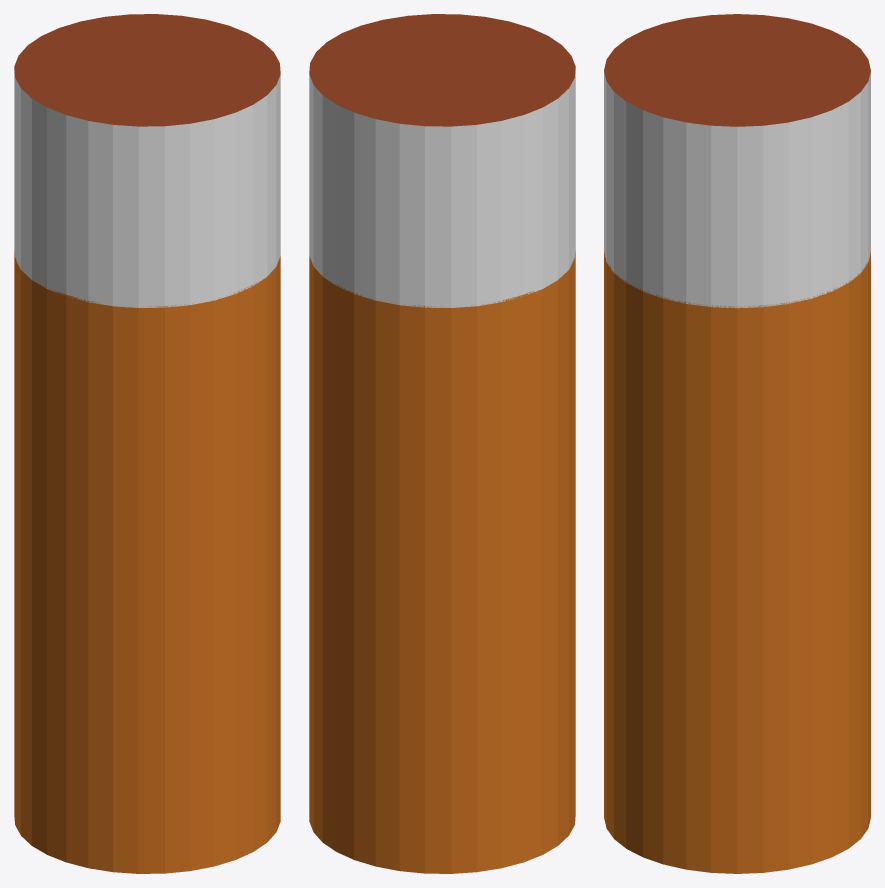
Rendered from pet.glb.
3 renders of one model, left to right at view 1: azimuth 30°, elevation 25°; view 2: azimuth 150°, elevation 25°; view 3: azimuth 270°, elevation 25°, orthographic.
Visible parts, largest first — view 1: Cylinder.001, Cylinder; view 2: Cylinder.001, Cylinder; view 3: Cylinder.001, Cylinder.
Boxes of the visible parts, <box> form: Cylinder.001: <box>14,251,280,873</box>; Cylinder: <box>14,14,280,307</box>; Cylinder.001: <box>309,251,575,873</box>; Cylinder: <box>309,14,575,307</box>; Cylinder.001: <box>604,251,870,873</box>; Cylinder: <box>604,14,870,308</box>.
Size of the model in its own units: 2 by 6.18 by 2.
